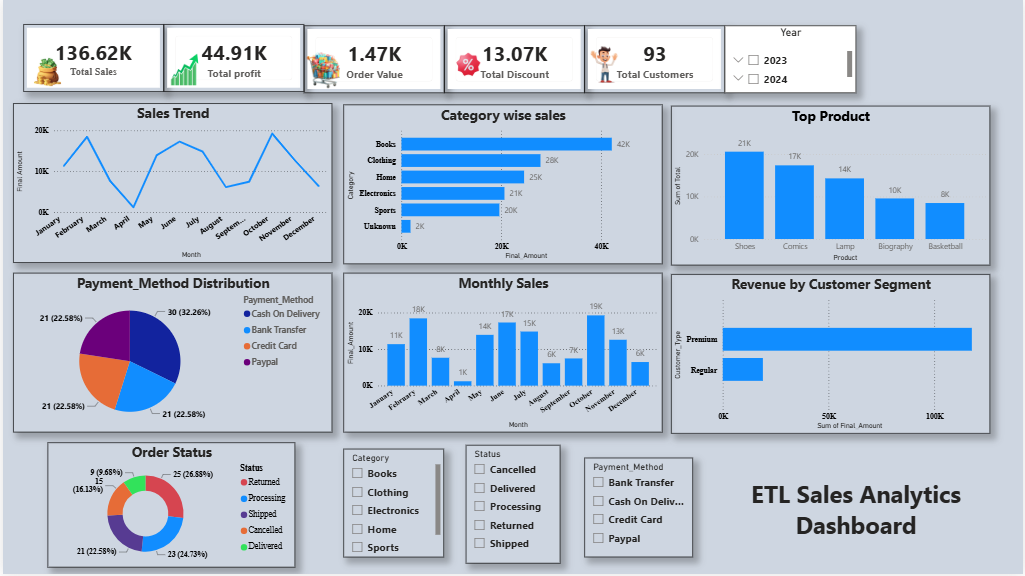

The dashboard page shown, as its layout file describes it:
{"tool":"powerbi","page":{"name":"Page 1","canvas":[1600,900],"ordinal":0},"visuals":[{"type":"cardVisual","fields":{"Data":["etl cleaned_ecommerce_sales.Total Final_amount"]},"box":[32,38,220,106],"z":0},{"type":"cardVisual","fields":{"Data":["etl cleaned_ecommerce_sales.Total profit"]},"box":[252,38,220,106],"z":1000},{"type":"cardVisual","fields":{"Data":["etl cleaned_ecommerce_sales.Total final_AVG"]},"box":[472,40,220,106],"z":2000},{"type":"cardVisual","fields":{"Data":["etl cleaned_ecommerce_sales.Total Discount"]},"box":[692,40,220,106],"z":3000},{"type":"cardVisual","fields":{"Data":["etl cleaned_ecommerce_sales.Total Customer_Type"]},"box":[912,40,220,106],"z":4000},{"type":"lineChart","title":"Sales Trend","fields":{"Category":["etl cleaned_ecommerce_sales.Month"],"Y":["Sum(etl cleaned_ecommerce_sales.Final_Amount)"]},"box":[16,162,500,250],"z":5000},{"type":"barChart","title":"Category wise sales","fields":{"Category":["etl cleaned_ecommerce_sales.Category"],"Y":["Sum(etl cleaned_ecommerce_sales.Final_Amount)"]},"box":[534,164,500,250],"z":6000},{"type":"columnChart","title":"Top Product","fields":{"Category":["etl cleaned_ecommerce_sales.Product"],"Y":["Sum(etl cleaned_ecommerce_sales.Total)"]},"box":[1048,166,500,250],"z":7000},{"type":"pieChart","title":"Payment_Method Distribution","fields":{"Category":["etl cleaned_ecommerce_sales.Payment_Method"],"Y":["CountNonNull(etl cleaned_ecommerce_sales.Order_ID)"]},"box":[16,428,500,250],"z":8000},{"type":"donutChart","title":"Order Status","fields":{"Category":["etl cleaned_ecommerce_sales.Status"],"Y":["CountNonNull(etl cleaned_ecommerce_sales.Order_ID)"]},"box":[70,694,388,196],"z":9000},{"type":"columnChart","title":"Monthly Sales","fields":{"Category":["etl cleaned_ecommerce_sales.Month"],"Y":["Sum(etl cleaned_ecommerce_sales.Final_Amount)"]},"box":[534,428,500,250],"z":10000},{"type":"clusteredBarChart","title":"Revenue by Customer Segment","fields":{"Category":["etl cleaned_ecommerce_sales.Customer_Type"],"Y":["Sum(etl cleaned_ecommerce_sales.Final_Amount)"]},"box":[1048,430,500,250],"z":11000},{"type":"slicer","title":"Year","fields":{"Values":["etl cleaned_ecommerce_sales.Year","etl cleaned_ecommerce_sales.Category","etl cleaned_ecommerce_sales.Payment_Method","etl cleaned_ecommerce_sales.Status","etl cleaned_ecommerce_sales.Customer_Type"]},"box":[1132,40,206,106],"z":12000},{"type":"image","box":[46,90,48,46],"z":13000},{"type":"image","box":[252,82,66,54],"z":14000},{"type":"image","box":[472,72,62,74],"z":15000},{"type":"image","box":[912,64,64,74],"z":16000},{"type":"image","box":[706,82,48,38],"z":17000},{"type":"slicer","fields":{"Values":["etl cleaned_ecommerce_sales.Category"]},"box":[534,704,158,170],"z":18000},{"type":"slicer","fields":{"Values":["etl cleaned_ecommerce_sales.Payment_Method"]},"box":[912,718,170,156],"z":19000},{"type":"slicer","fields":{"Values":["etl cleaned_ecommerce_sales.Status"]},"box":[726,698,148,186],"z":20000},{"type":"textbox","box":[1106,744,464,140],"z":21000}]}

Visuals, with their boxes in screenshot pixels (x1, y1, x2, y2), scaled from the page's 1600x900 canvas onto the 1025x576 screenshot:
cardVisual - etl cleaned_ecommerce_sales.Total Final_amount: x1=20 y1=24 x2=161 y2=92
cardVisual - etl cleaned_ecommerce_sales.Total profit: x1=161 y1=24 x2=302 y2=92
cardVisual - etl cleaned_ecommerce_sales.Total final_AVG: x1=302 y1=26 x2=443 y2=93
cardVisual - etl cleaned_ecommerce_sales.Total Discount: x1=443 y1=26 x2=584 y2=93
cardVisual - etl cleaned_ecommerce_sales.Total Customer_Type: x1=584 y1=26 x2=725 y2=93
"Sales Trend" lineChart: x1=10 y1=104 x2=331 y2=264
"Category wise sales" barChart: x1=342 y1=105 x2=662 y2=265
"Top Product" columnChart: x1=671 y1=106 x2=992 y2=266
"Payment_Method Distribution" pieChart: x1=10 y1=274 x2=331 y2=434
"Order Status" donutChart: x1=45 y1=444 x2=293 y2=570
"Monthly Sales" columnChart: x1=342 y1=274 x2=662 y2=434
"Revenue by Customer Segment" clusteredBarChart: x1=671 y1=275 x2=992 y2=435
"Year" slicer: x1=725 y1=26 x2=857 y2=93
image: x1=29 y1=58 x2=60 y2=87
image: x1=161 y1=52 x2=204 y2=87
image: x1=302 y1=46 x2=342 y2=93
image: x1=584 y1=41 x2=625 y2=88
image: x1=452 y1=52 x2=483 y2=77
slicer - etl cleaned_ecommerce_sales.Category: x1=342 y1=451 x2=443 y2=559
slicer - etl cleaned_ecommerce_sales.Payment_Method: x1=584 y1=460 x2=693 y2=559
slicer - etl cleaned_ecommerce_sales.Status: x1=465 y1=447 x2=560 y2=566
textbox: x1=709 y1=476 x2=1006 y2=566
